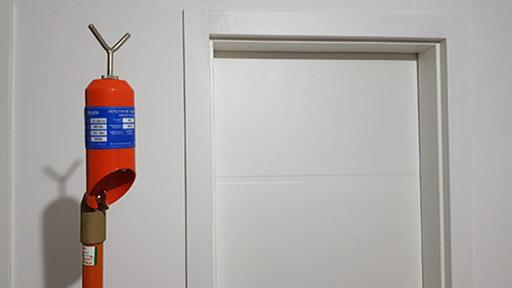Detector_Tensao_Contato: (82, 22, 138, 212)
